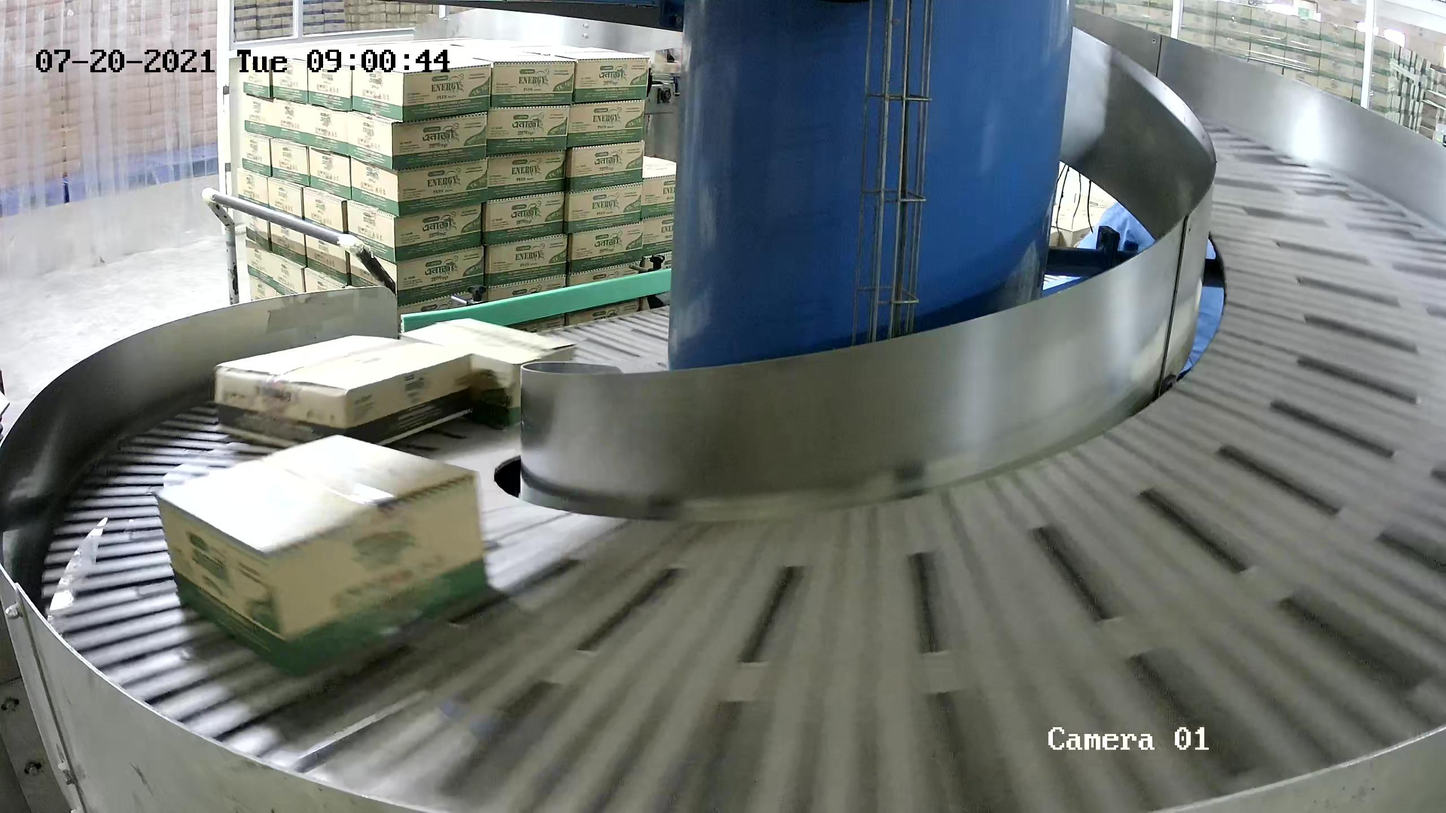Box: (153, 432, 493, 681), (213, 333, 476, 465), (398, 316, 577, 431)
